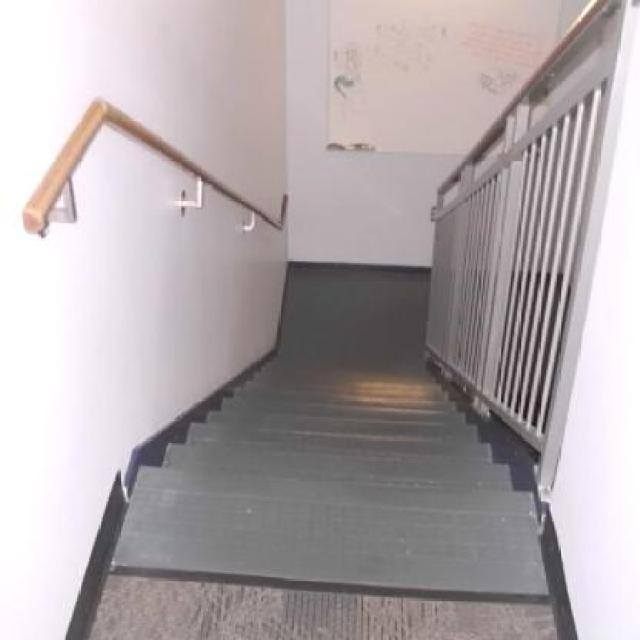stair: (53, 19, 575, 618)
